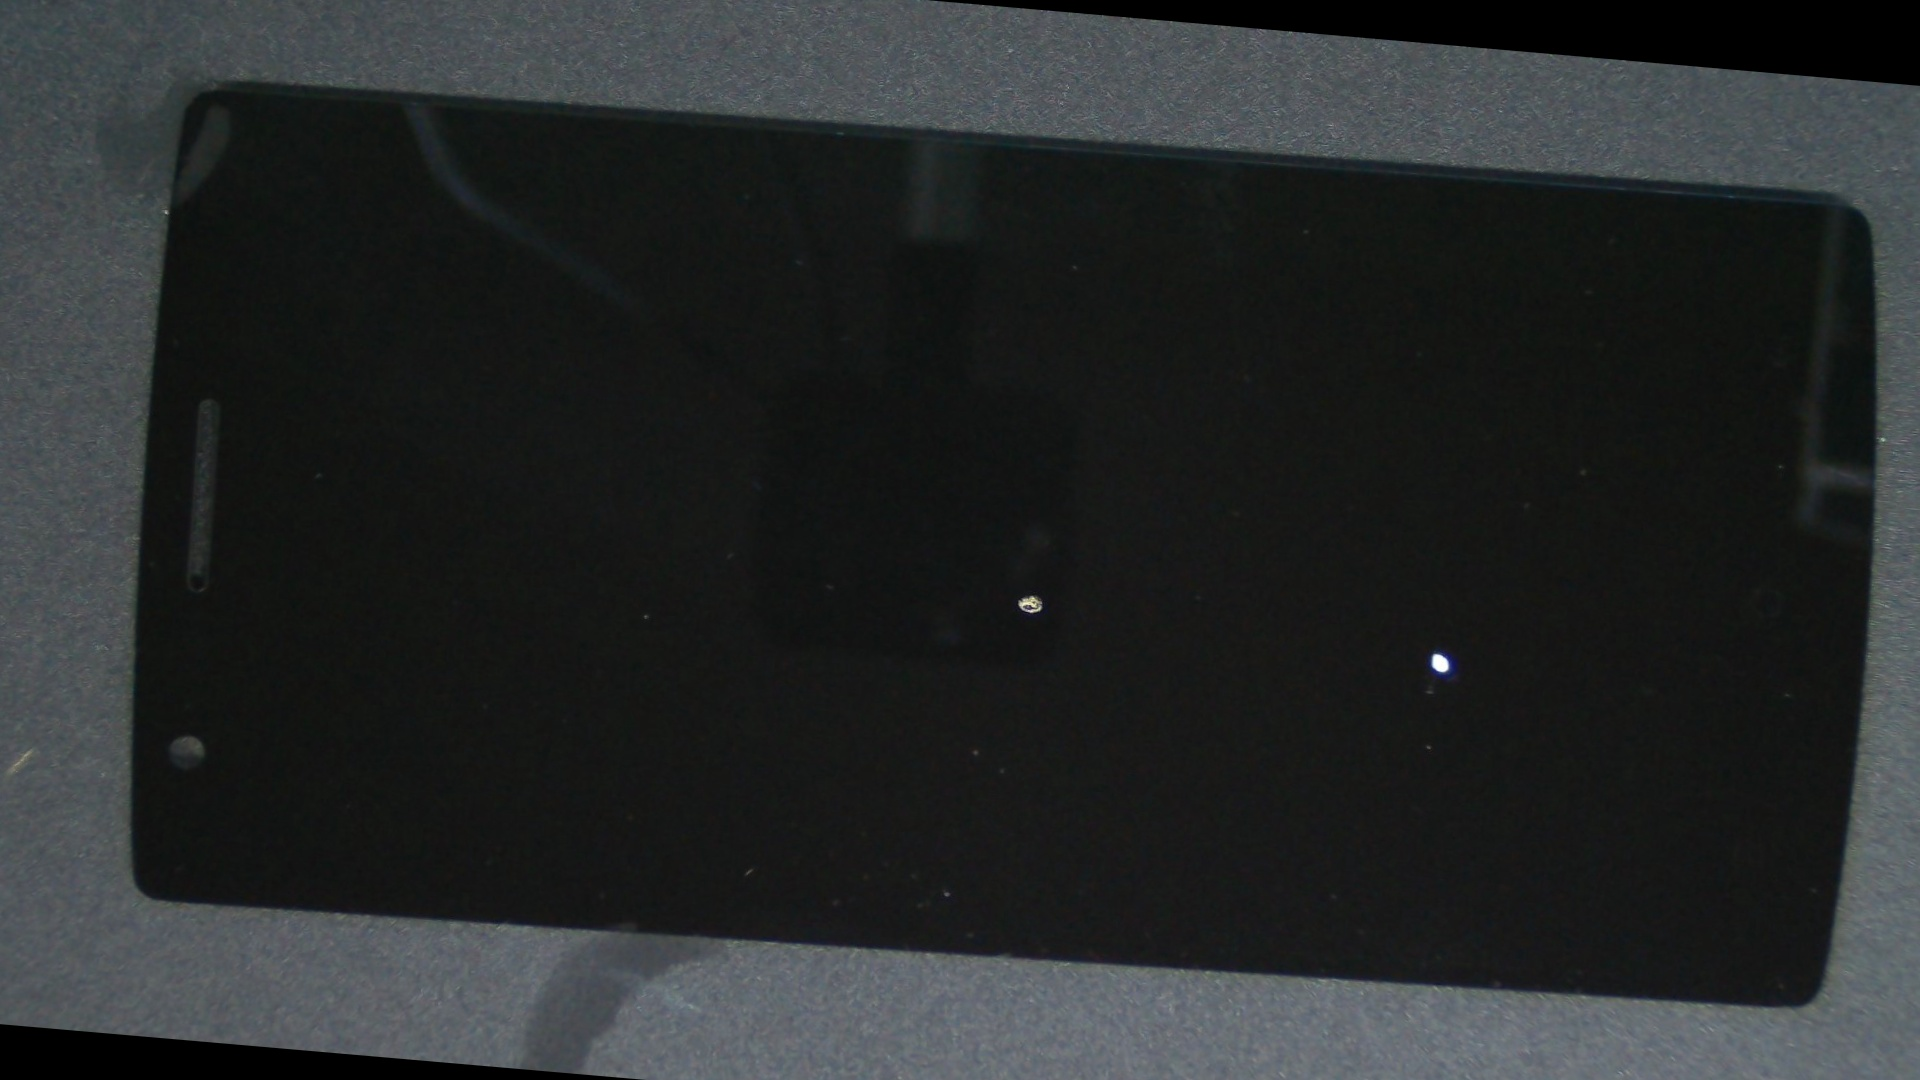oil: (669, 286, 1920, 1005), (465, 257, 1597, 931)
